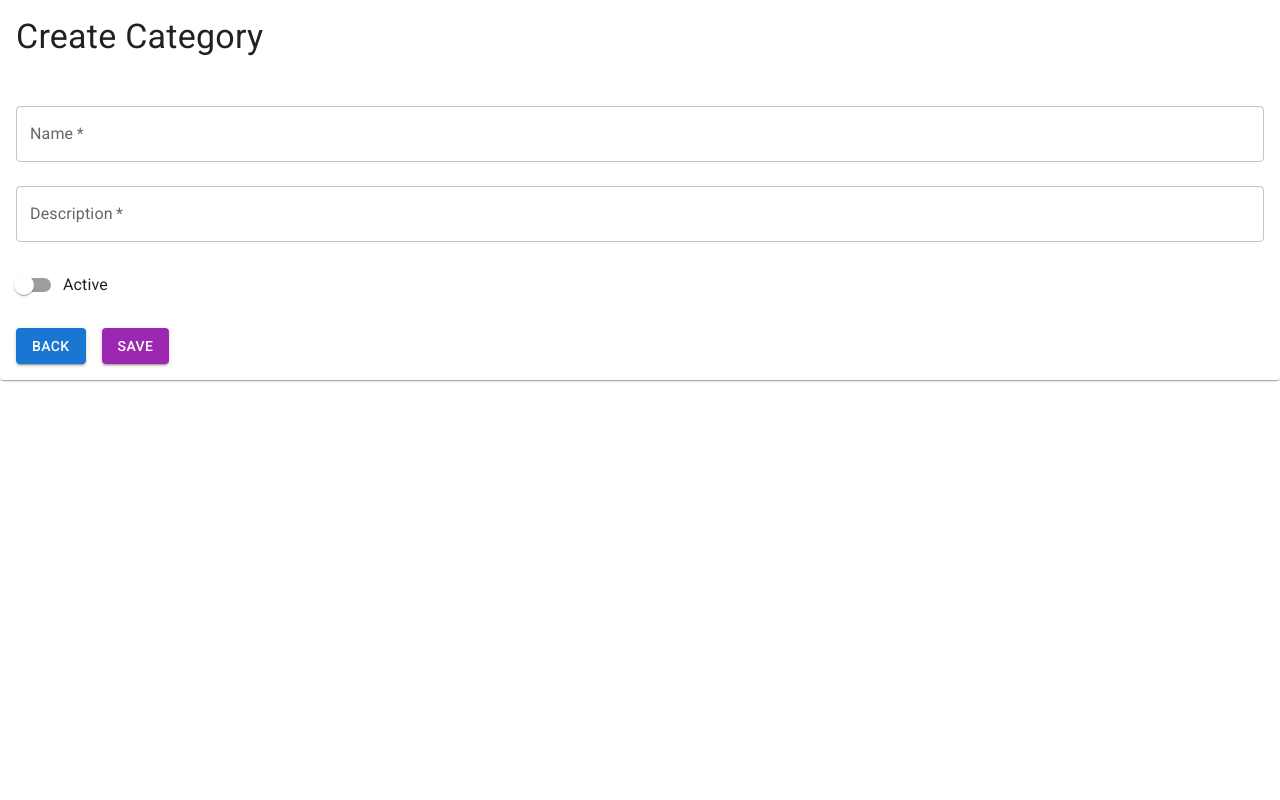
Test: CreateCategory › should handle submit error
This screenshot has width=1280, height=800.
Step 1. Type "Test Category" into the field with test id "name" → x=640, y=134, box [16, 106, 1264, 162]
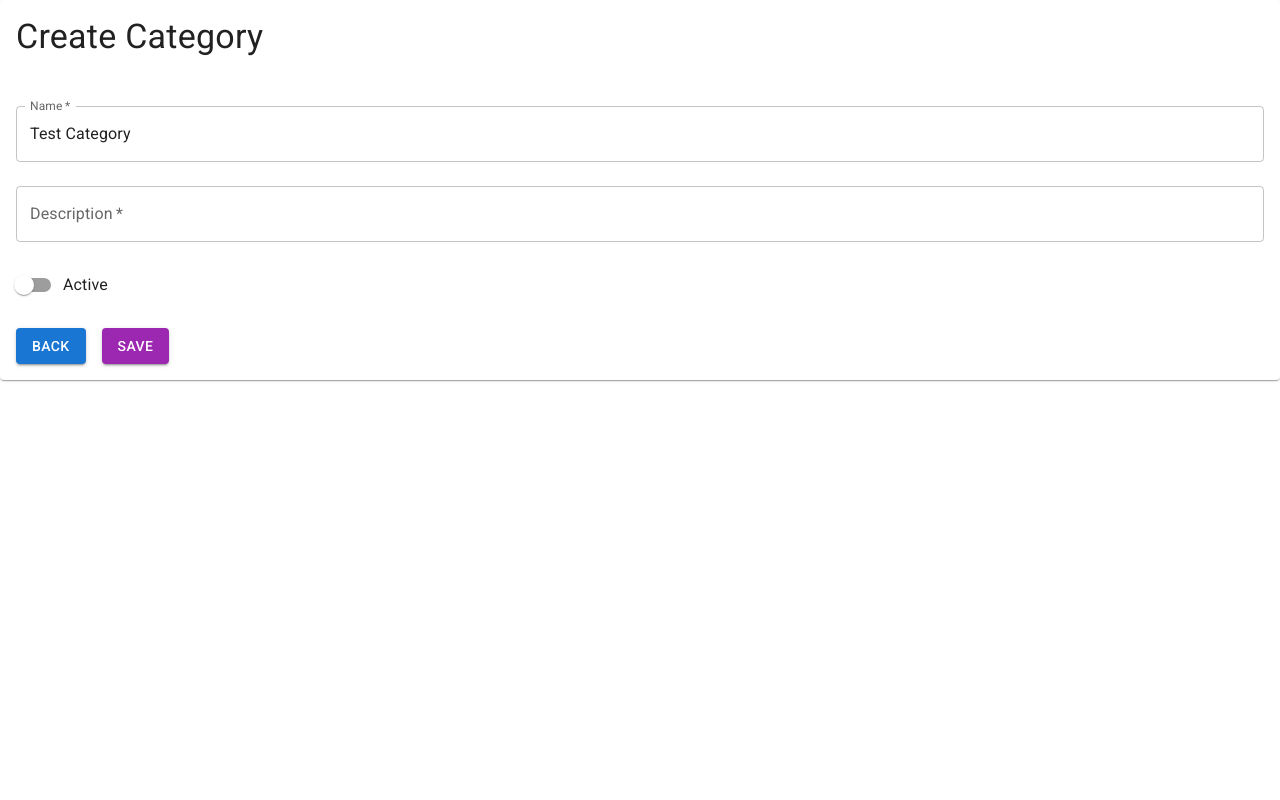
Step 2. Type "Test Description" into the field with test id "description" → x=640, y=214, box [16, 186, 1264, 242]
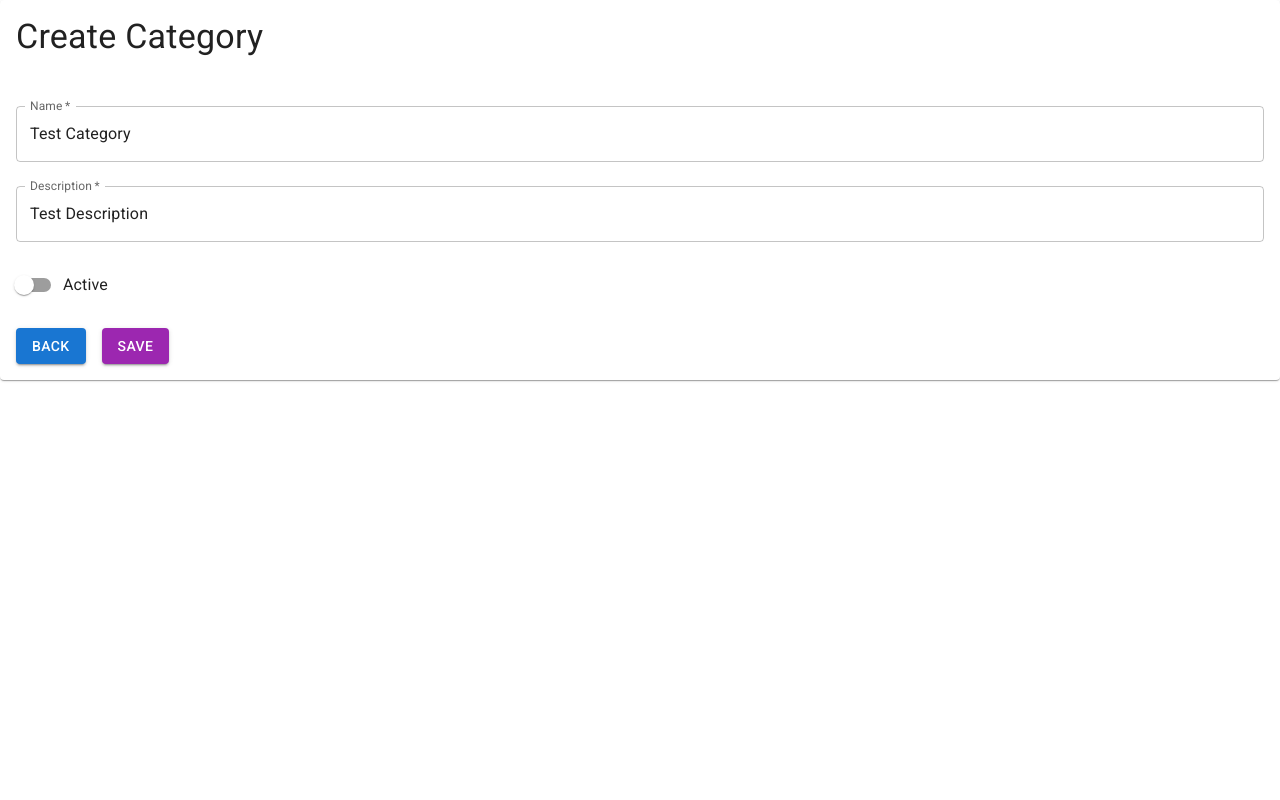
Step 3. Click the element with test id "is_active" → x=24, y=285, box [14, 275, 34, 295]
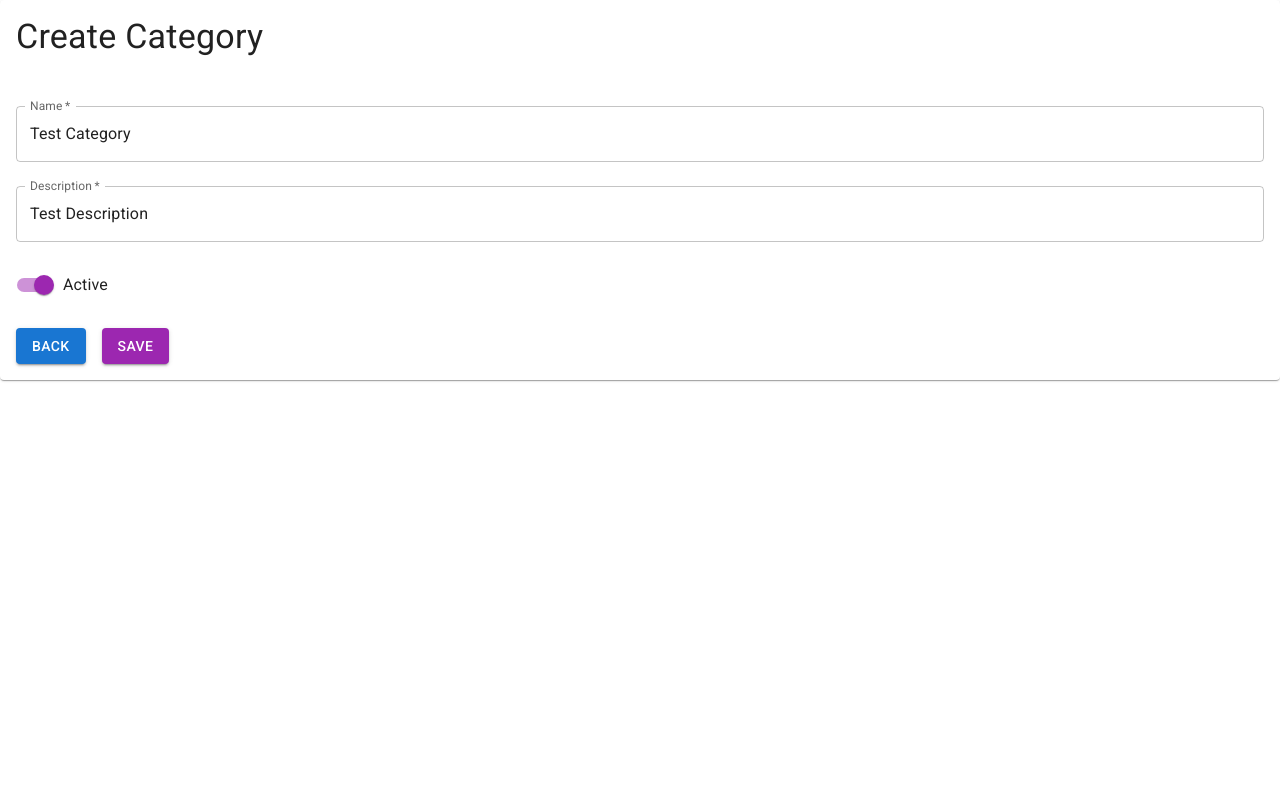
Step 4. Click the button "Save" → x=136, y=346, box [102, 328, 169, 364]
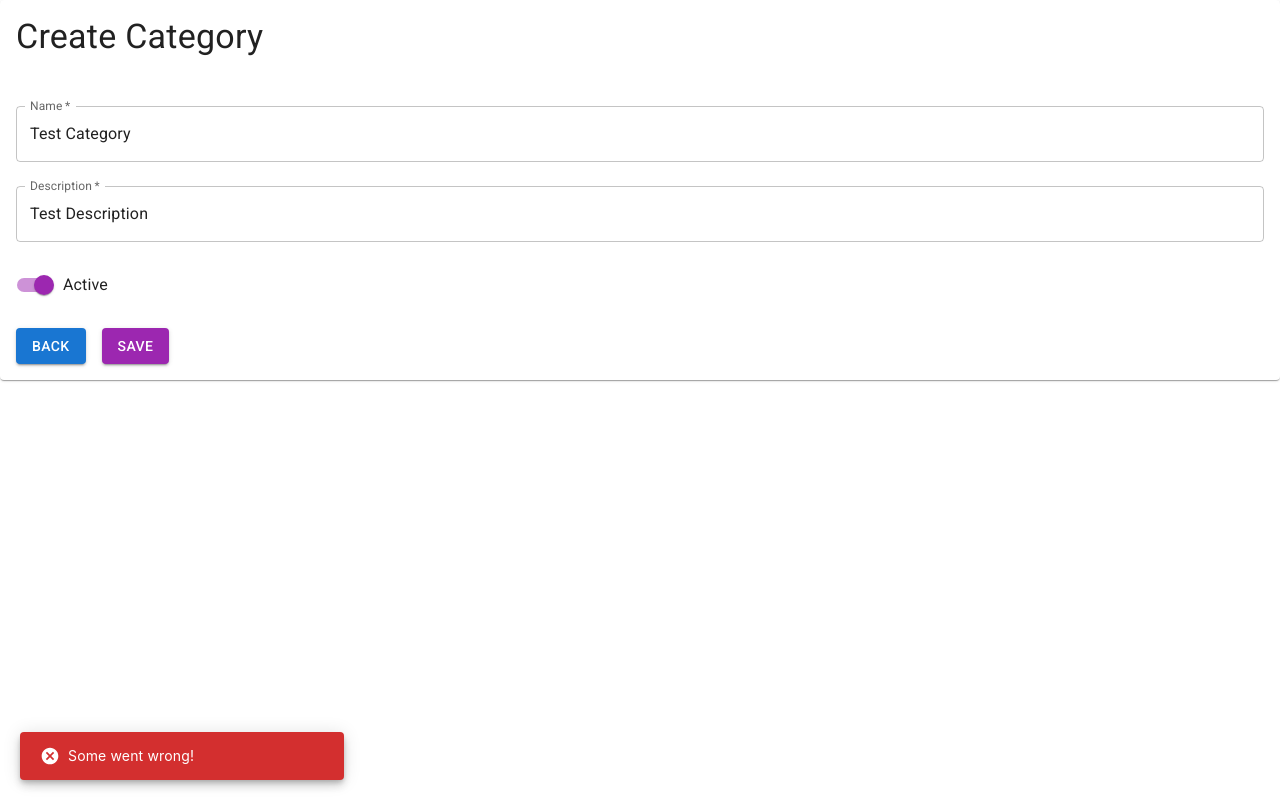
expect the text "Some went wrong!" is shown: met, box [40, 746, 194, 766]
